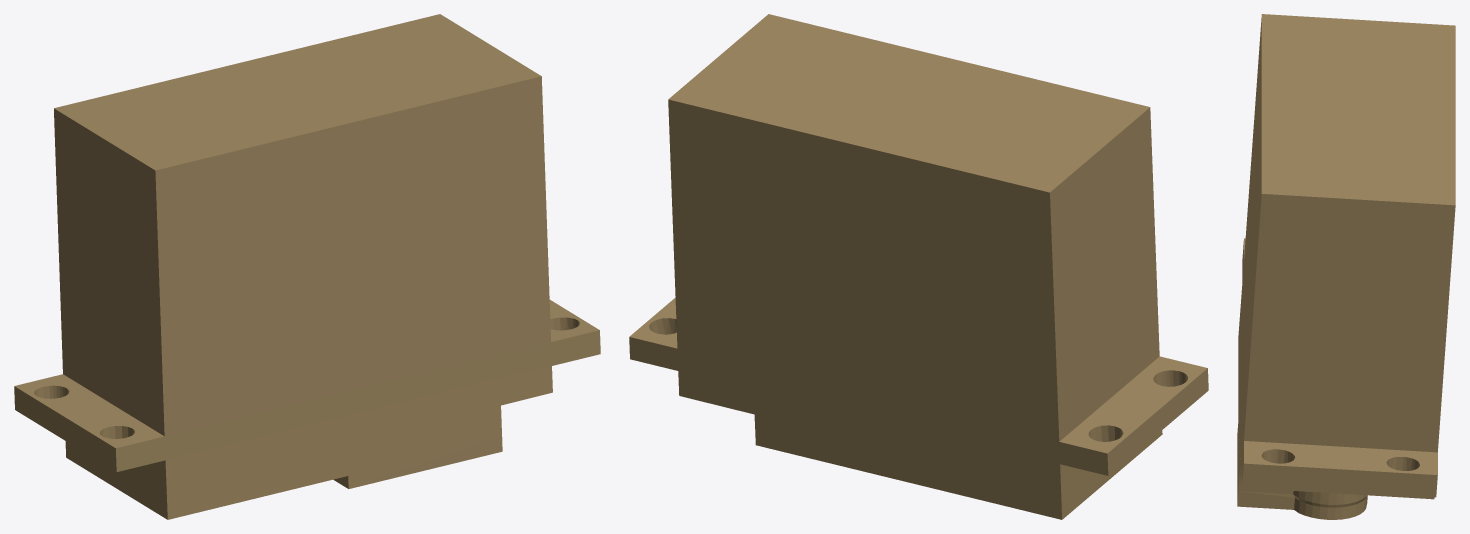
The model's file is Texture.258.dae.balanced.glb.
The picture shows the model from 3 angles, left to right: view 1: azimuth 30°, elevation 25°; view 2: azimuth 150°, elevation 25°; view 3: azimuth 270°, elevation 25°; orthographic projection. The views are drawn at different scales.
Size of the model in its own units: 0.7755 by 0.5533 by 0.3176.
